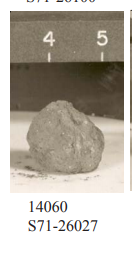Breccia: (24, 90, 107, 176)
